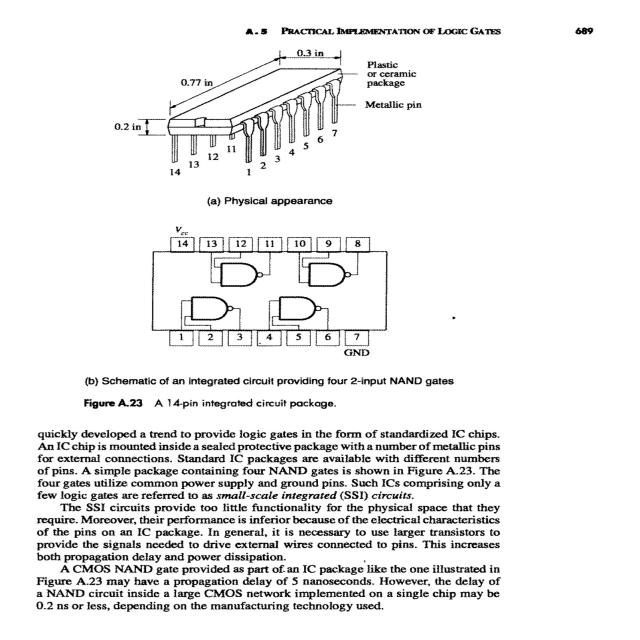diagram: (30, 27, 490, 410)
